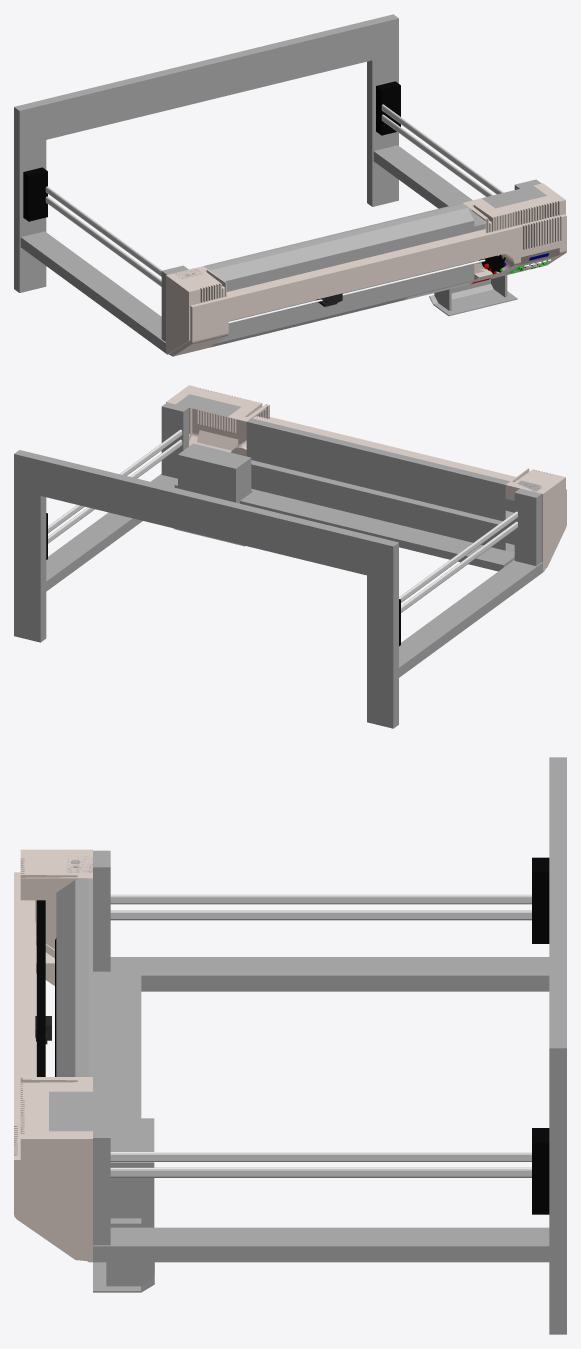
Rendered from PLOTTER.glb.
The picture shows the model from 3 angles, top to bottom: view 1: azimuth 30°, elevation 25°; view 2: azimuth 150°, elevation 25°; view 3: azimuth 270°, elevation 25°; orthographic projection. The views are drawn at different scales.
Parts seen in each view (by area): view 1: _0; view 2: _0; view 3: _0.
Boxes of the visible parts, left/top/right/bottom form: _0: left=14, top=14, right=566, bottom=356; _0: left=14, top=385, right=566, bottom=728; _0: left=14, top=757, right=566, bottom=1334.
Size of the model in its own units: 8 by 3.67 by 6.42.
